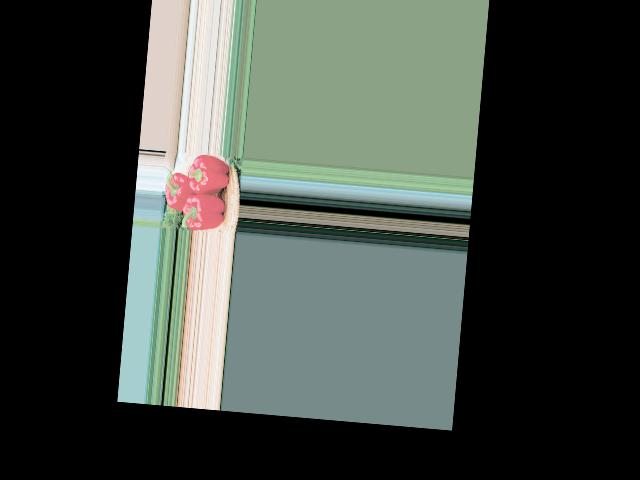bell_pepper: (180, 187, 231, 232)
